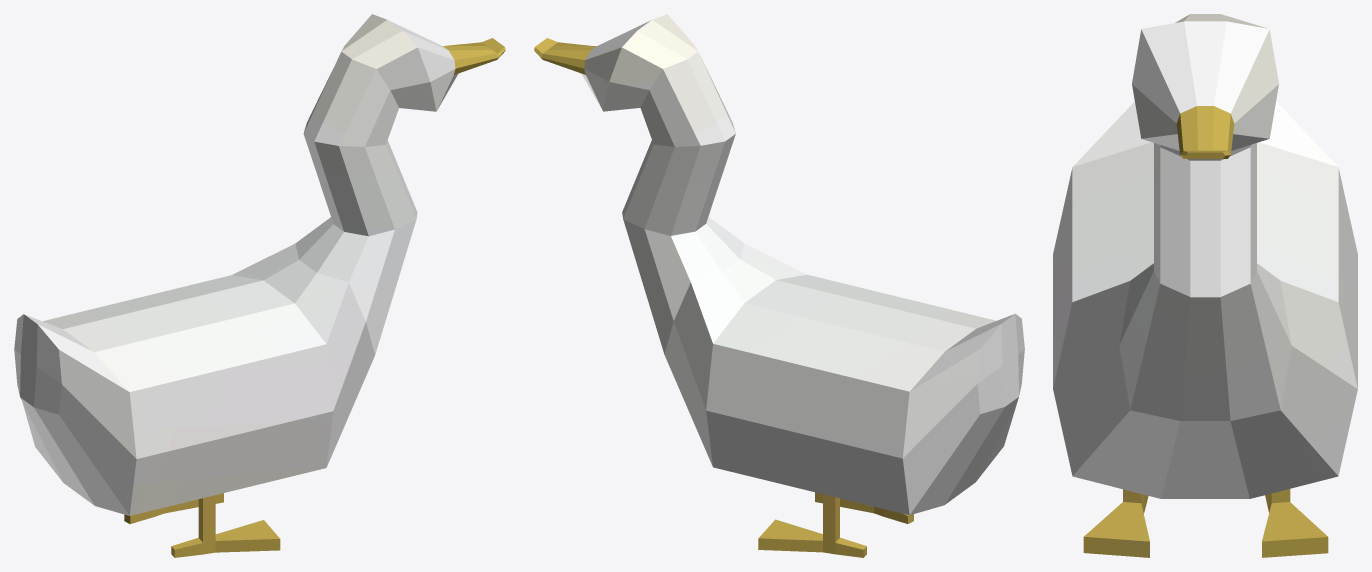
The model's file is 4hp6pk_ojG2.glb.
3 views of the same model, side by side, from view 1: azimuth 30°, elevation 25°; view 2: azimuth 150°, elevation 25°; view 3: azimuth 270°, elevation 25° (orthographic). The views are drawn at different scales.
Visible parts, largest first — view 1: Cube.024_Cube.034; view 2: Cube.024_Cube.034; view 3: Cube.024_Cube.034.
Boxes of the visible parts, x1,y1,x2,y2 form: Cube.024_Cube.034: (14,14,505,557); Cube.024_Cube.034: (534,14,1024,557); Cube.024_Cube.034: (1053,14,1357,557).
Size of the model in its own units: 1.09 by 1 by 0.4317.
1 material, 1 textured.
